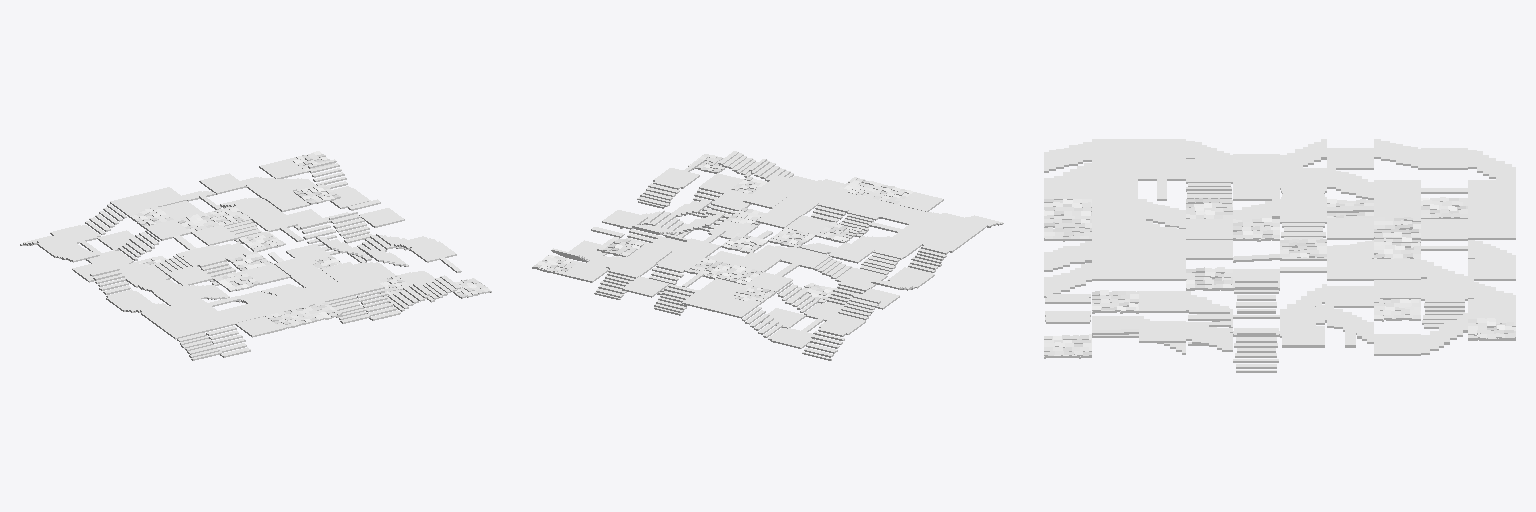
robot.urdf — playground:
<robot name="playground">
  <link name="base_link">
    <visual>
      <origin xyz="0 0 0" rpy="0 0 0" />
      <geometry>
        <mesh filename="package://hpp_environments/meshes/multicontact/daeun/playground.stl"/>
      </geometry>
      <material name="white">
        <color rgba="1 1 1 1"/>
      </material>
    </visual>
    <collision>
      <origin xyz="0 0 0" rpy="0 0 0" />
      <geometry>
        <mesh filename="package://hpp_environments/meshes/multicontact/daeun/playground.stl"/>
      </geometry>
    </collision>
  </link>
</robot>

--- Render facts (derived) ---
Views: 3 orthographic renders of the robot side by side, from view 1: azimuth 30°, elevation 25°; view 2: azimuth 150°, elevation 25°; view 3: azimuth 270°, elevation 25°.
Robot: playground — 1 links, 0 joints (none); root link base_link; default pose: every joint at zero.
Links seen in each view (by area): view 1: base_link; view 2: base_link; view 3: base_link.
Link boxes in pixels (x1,y1,x2,y2): base_link: [20, 151, 491, 360]; base_link: [532, 151, 1003, 360]; base_link: [1044, 139, 1515, 372].
Bounding box of the posed robot: 20 × 20 × 2.06 m (x, y, z).
1 mesh visuals loaded from 1 distinct referenced files (1 binary STL).
